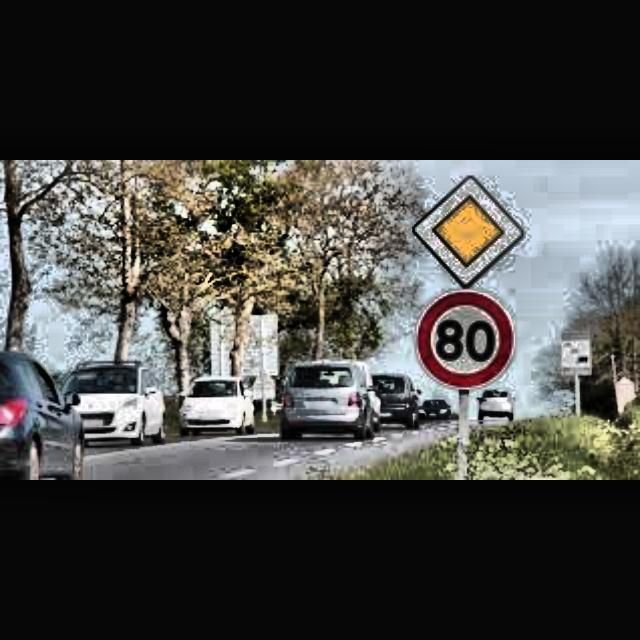speed_80: (415, 292, 513, 388)
